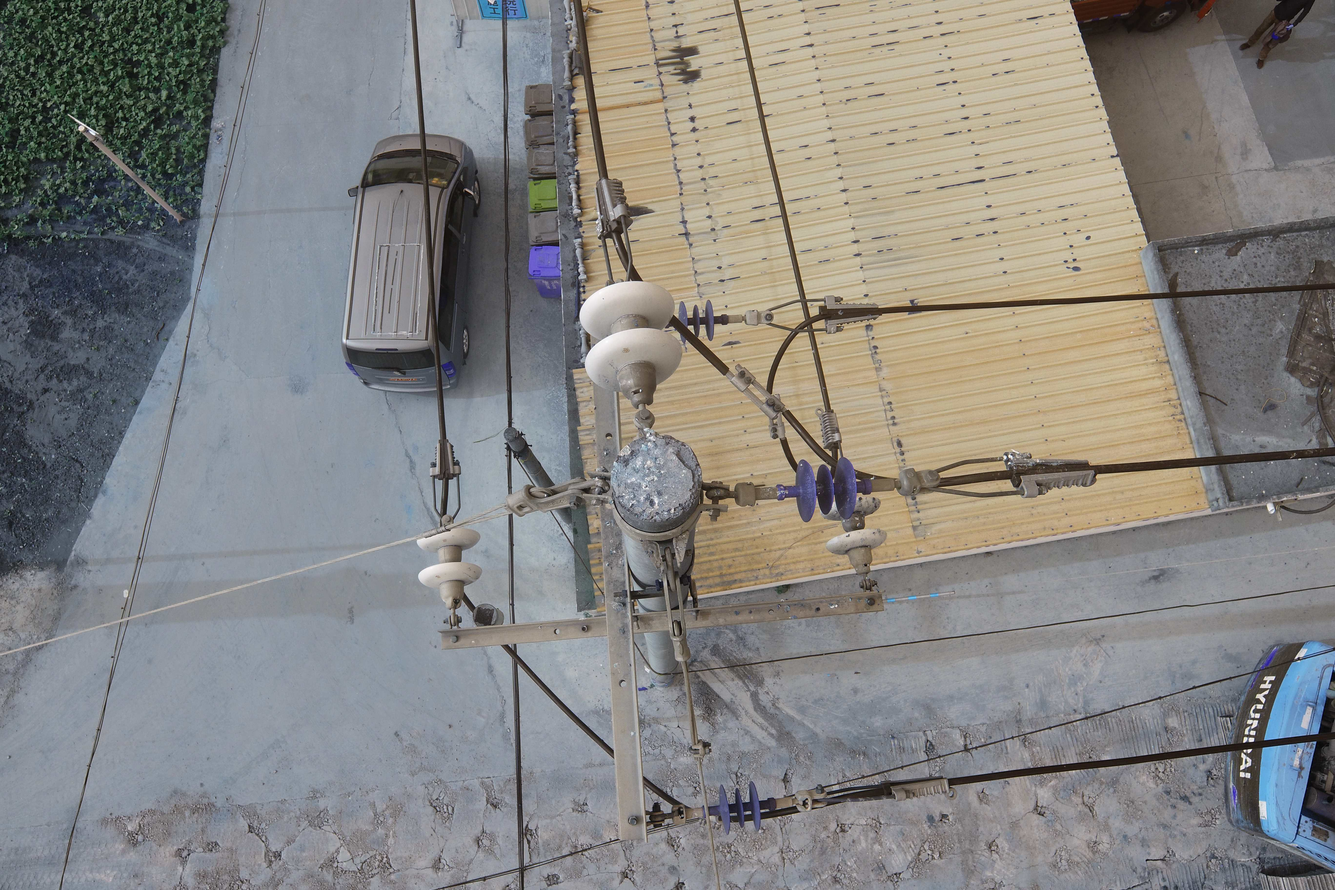severe_soiling_no_discharge_whole: (818, 491, 890, 576)
